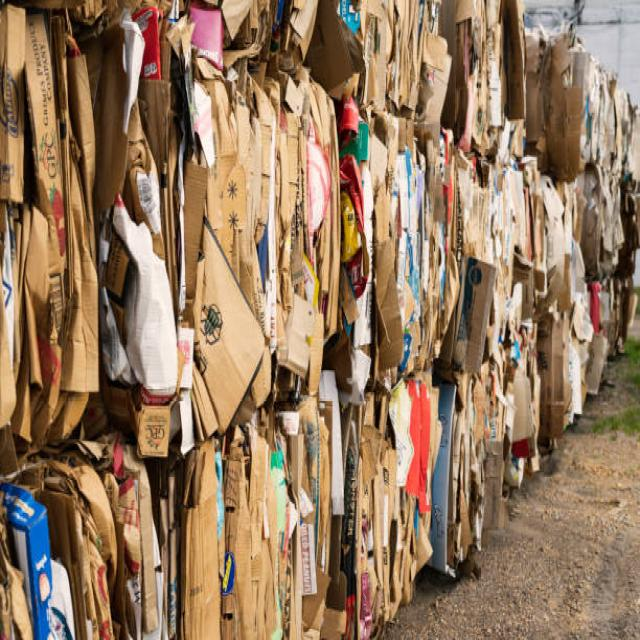cardboard: (6, 4, 633, 586)
